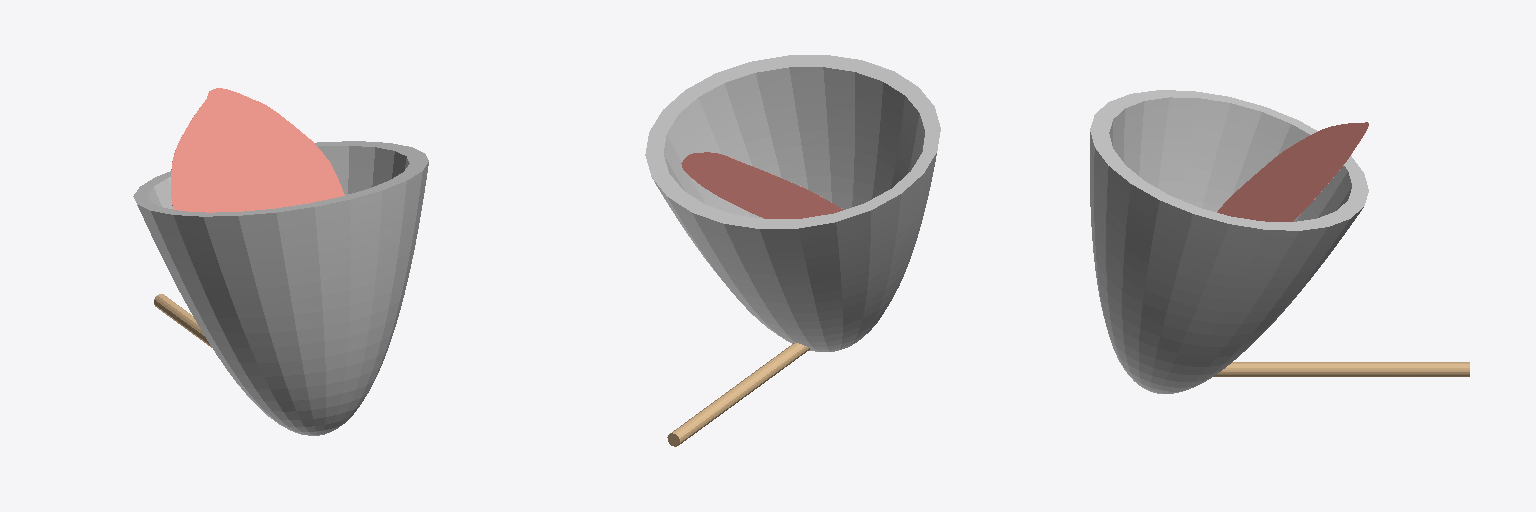
The model's file is tinker.obj.
The picture shows the model from 3 angles: view 1: azimuth 30°, elevation 25°; view 2: azimuth 150°, elevation 25°; view 3: azimuth 270°, elevation 25°; orthographic projection.
Visible parts, largest first — view 1: obj_0; view 2: obj_0; view 3: obj_0.
Boxes of the visible parts, x1,y1,x2,y2 form: obj_0: [133, 88, 428, 435]; obj_0: [645, 55, 940, 446]; obj_0: [1090, 90, 1469, 393].
Bounding box in the file's own units: 20.85 × 20.45 × 26.34.